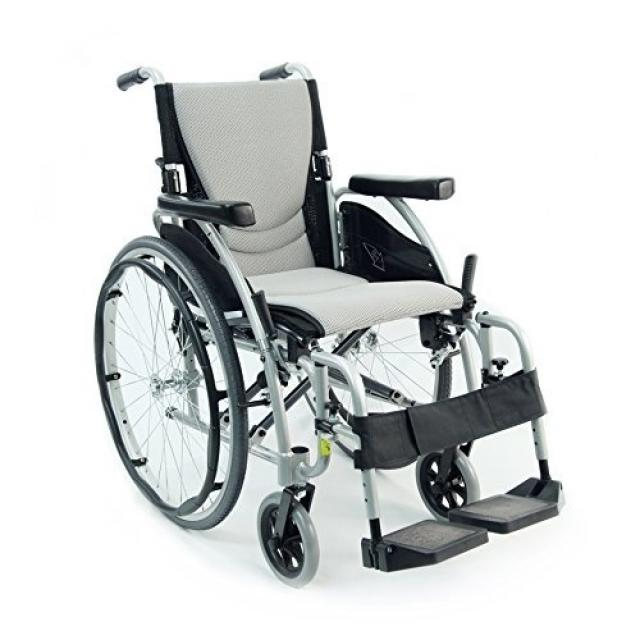wheelchair: (87, 42, 590, 603)
